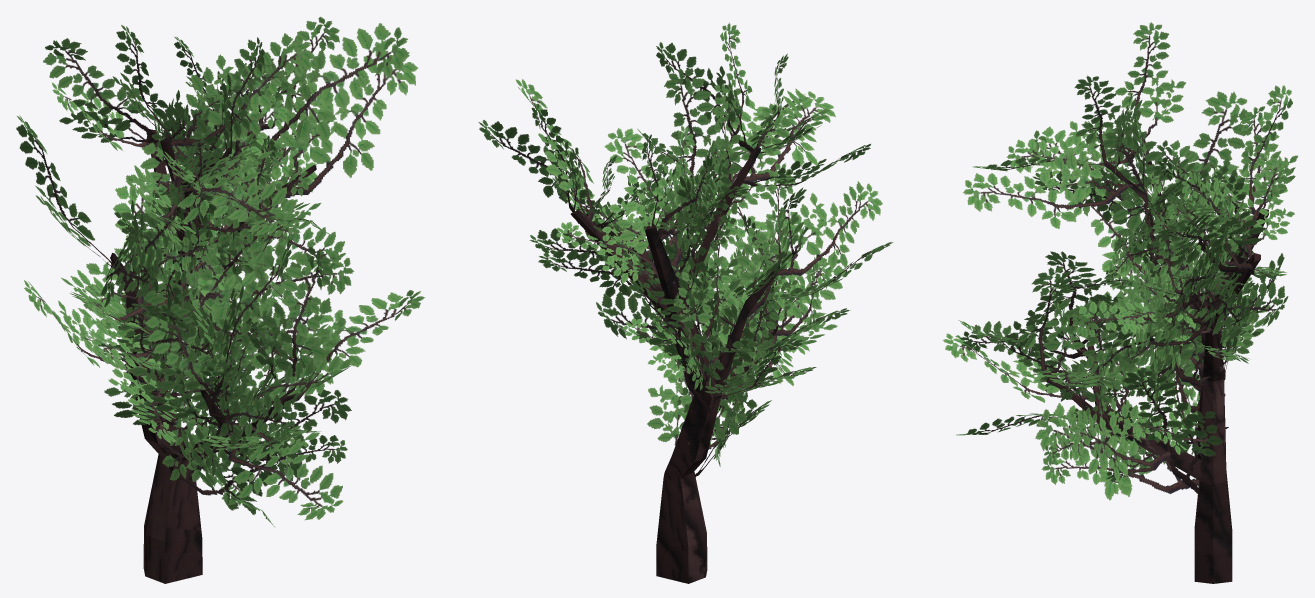
The model's file is HP_Tree4.glb.
3 renders of one model, left to right at view 1: azimuth 30°, elevation 25°; view 2: azimuth 150°, elevation 25°; view 3: azimuth 270°, elevation 25°, orthographic. The views are drawn at different scales.
Visible parts, largest first — view 1: Cube, HP_tree_branch.068, HP_tree_branch.045, HP_tree_branch.064, HP_tree_branch.073, HP_tree_branch.065, HP_tree_branch.076, HP_tree_branch.042, HP_tree_branch.081, HP_tree_branch.072, HP_tree_branch.018, HP_tree_branch.024 (+55 smaller); view 2: Cube, HP_tree_branch.061, HP_tree_branch.036, HP_tree_branch.044, HP_tree_branch.006, HP_tree_branch.065, HP_tree_branch.055, HP_tree_branch.017, HP_tree_branch.037, HP_tree_branch.064, HP_tree_branch.042, HP_tree_branch.010 (+38 smaller); view 3: Cube, HP_tree_branch.066, HP_tree_branch.003, HP_tree_branch.073, HP_tree_branch.063, HP_tree_branch.032, HP_tree_branch.024, HP_tree_branch.074, HP_tree_branch.045, HP_tree_branch.059, HP_tree_branch.067, HP_tree_branch.027 (+52 smaller).
Boxes of the visible parts, <box> form: Cube: <box>110,121,316,583</box>; HP_tree_branch.068: <box>280,43,418,197</box>; HP_tree_branch.045: <box>244,23,409,151</box>; HP_tree_branch.064: <box>169,33,315,147</box>; HP_tree_branch.073: <box>250,246,333,413</box>; HP_tree_branch.065: <box>174,149,297,235</box>; HP_tree_branch.076: <box>228,425,343,520</box>; HP_tree_branch.042: <box>43,38,154,144</box>; HP_tree_branch.081: <box>141,303,232,436</box>; HP_tree_branch.072: <box>268,290,424,416</box>; HP_tree_branch.018: <box>182,271,333,395</box>; HP_tree_branch.024: <box>178,427,300,515</box>; Cube: <box>570,146,779,583</box>; HP_tree_branch.061: <box>775,181,882,276</box>; HP_tree_branch.036: <box>661,68,741,231</box>; HP_tree_branch.044: <box>604,127,682,283</box>; HP_tree_branch.006: <box>628,279,724,413</box>; HP_tree_branch.065: <box>730,88,835,184</box>; HP_tree_branch.055: <box>736,163,795,317</box>; HP_tree_branch.017: <box>673,215,737,345</box>; HP_tree_branch.037: <box>716,103,791,222</box>; HP_tree_branch.064: <box>656,42,753,152</box>; HP_tree_branch.042: <box>655,155,715,251</box>; HP_tree_branch.010: <box>538,249,685,309</box>; Cube: <box>1061,140,1268,583</box>; HP_tree_branch.066: <box>963,152,1132,228</box>; HP_tree_branch.003: <box>1122,369,1223,493</box>; HP_tree_branch.073: <box>1016,266,1094,389</box>; HP_tree_branch.063: <box>1114,22,1185,154</box>; HP_tree_branch.032: <box>1102,125,1203,276</box>; HP_tree_branch.024: <box>1035,399,1199,500</box>; HP_tree_branch.074: <box>1068,398,1170,481</box>; HP_tree_branch.045: <box>1155,210,1266,274</box>; HP_tree_branch.059: <box>1161,91,1256,253</box>; HP_tree_branch.067: <box>1074,75,1145,180</box>; HP_tree_branch.027: <box>1072,274,1186,341</box>.
Bounding box in the file's own units: 19.46 × 26.37 × 16.84.
2 materials, 2 textured.
